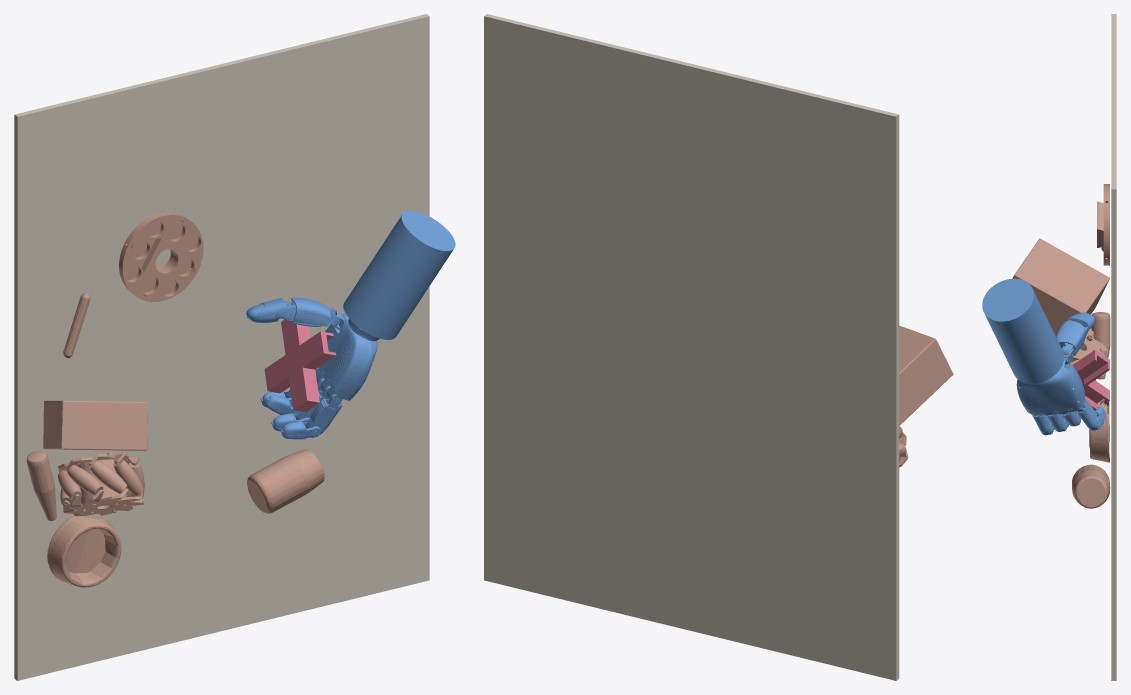
The picture shows the model from 3 angles, left to right: view 1: azimuth 30°, elevation 25°; view 2: azimuth 150°, elevation 25°; view 3: azimuth 270°, elevation 25°; orthographic projection. The views are drawn at different scales.
Visible parts, largest first — view 1: environment, hand, obstacle_006, obstacle_004, obstacle_000, obstacle_002, world, obstacle_001, obstacle_003, obstacle_005; view 2: environment, obstacle_004; view 3: hand, obstacle_004, environment, obstacle_001, world, obstacle_002, obstacle_006, obstacle_003, obstacle_000.
Boxes of the visible parts, x1,y1,x2,y2 form: environment: (14,14,429,680); hand: (246,210,455,439); obstacle_006: (119,212,203,301); obstacle_004: (43,400,147,450); obstacle_000: (58,452,144,516); obstacle_002: (47,515,121,587); world: (264,319,336,412); obstacle_001: (247,449,324,513); obstacle_003: (26,450,56,520); obstacle_005: (63,293,90,358); environment: (484,14,899,680); obstacle_004: (899,325,953,425); hand: (982,278,1105,435); obstacle_004: (1012,238,1109,335); environment: (1111,14,1116,680); obstacle_001: (1072,464,1110,508); world: (1070,350,1109,410); obstacle_002: (1089,399,1109,462); obstacle_006: (1097,184,1109,265); obstacle_003: (1091,312,1110,379); obstacle_000: (1070,329,1107,380).
Bounding box in the file's own units: 0.6189 × 0.8 × 0.1985.
